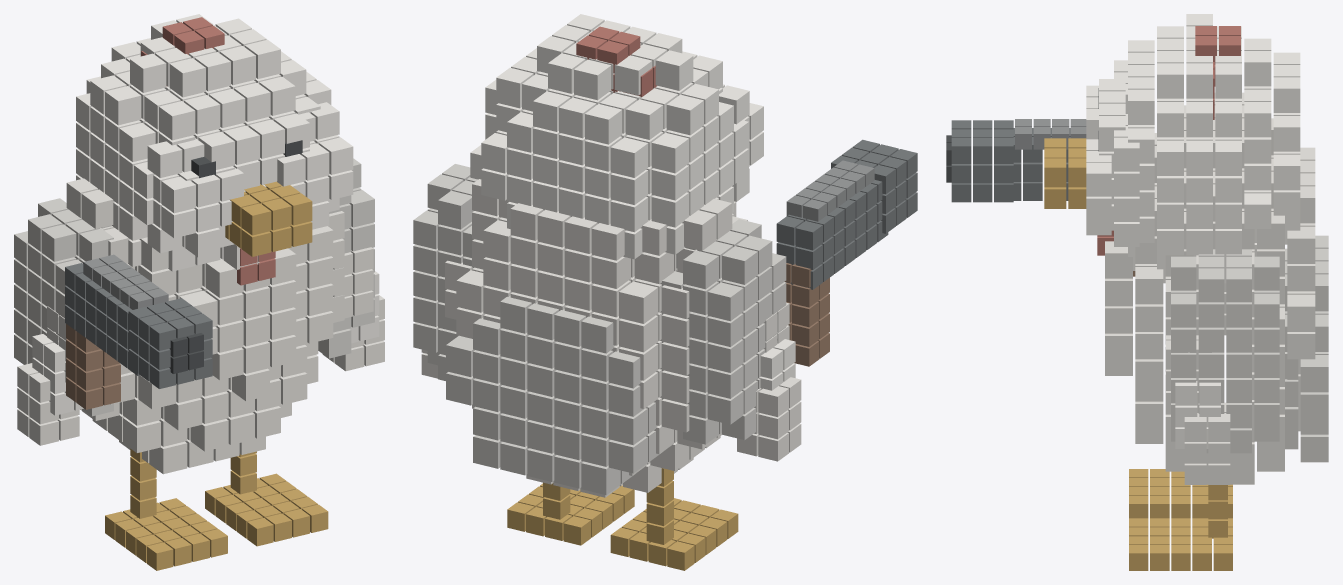
The model's file is white_chicken_v2.glb.
3 views of the same model, side by side, from view 1: azimuth 30°, elevation 25°; view 2: azimuth 150°, elevation 25°; view 3: azimuth 270°, elevation 25° (orthographic). The views are drawn at different scales.
Visible parts, largest first — view 1: light, warmwhite, ochre, greywhite, gun, wood, brickred, gunhi, black; view 2: greywhite, light, warmwhite, ochre, gun, wood, gunhi, brickred; view 3: light, warmwhite, greywhite, ochre, gun, gunhi, brickred.
Part boxes in pixels (x1,y1,x2,y2): light: [32, 14, 379, 415]; warmwhite: [17, 178, 384, 474]; ochre: [105, 181, 328, 570]; greywhite: [14, 158, 374, 416]; gun: [65, 263, 212, 388]; wood: [66, 324, 120, 409]; brickred: [141, 17, 275, 285]; gunhi: [83, 254, 168, 309]; black: [169, 140, 302, 373]; greywhite: [413, 164, 786, 495]; light: [470, 14, 795, 390]; warmwhite: [421, 179, 801, 497]; ochre: [507, 468, 738, 570]; gun: [776, 139, 917, 289]; wood: [784, 263, 829, 366]; gunhi: [786, 160, 874, 221]; brickred: [576, 26, 657, 97]; light: [1086, 14, 1300, 448]; warmwhite: [1105, 92, 1315, 484]; greywhite: [1171, 235, 1328, 462]; ochre: [1044, 138, 1232, 570]; gun: [951, 120, 1070, 202]; gunhi: [1015, 119, 1086, 149]; brickred: [1097, 26, 1240, 255].
Bounding box in the file's own units: 1.51 × 2.05 × 1.45.
